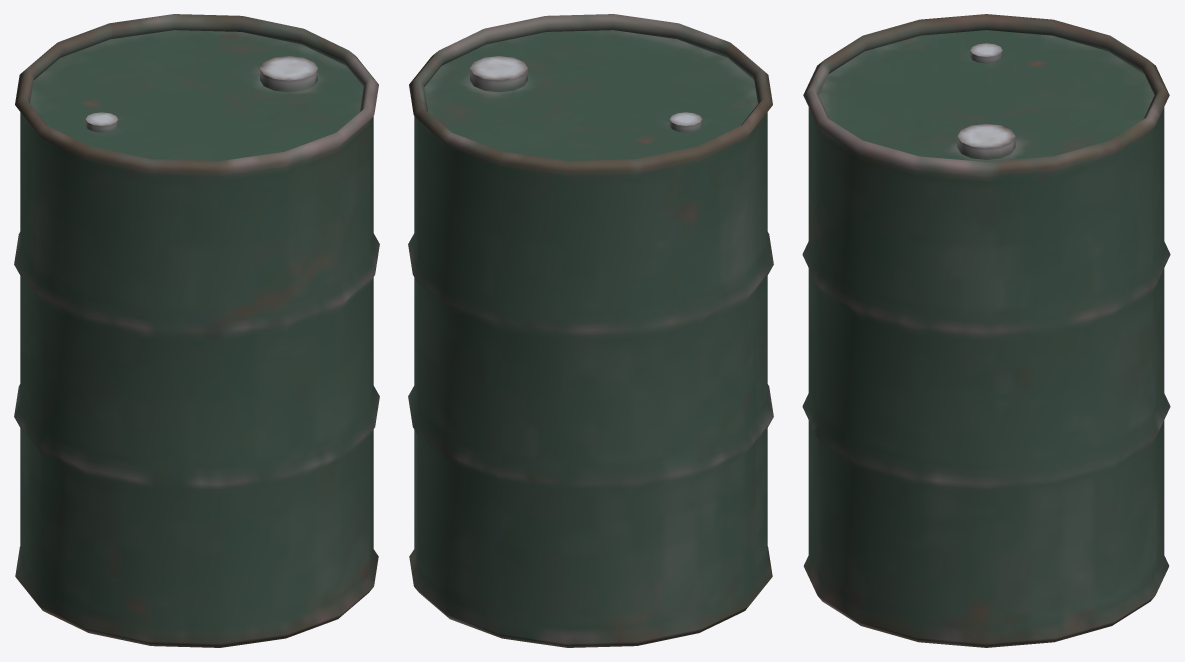
File: objects_un_base_oildrum03.gltf
3 renders of one model, left to right at view 1: azimuth 30°, elevation 25°; view 2: azimuth 150°, elevation 25°; view 3: azimuth 270°, elevation 25°, orthographic.
Parts seen in each view (by area): view 1: objects_un_base_oildrum03_body_mesh_shape:objects_un_base_oi; view 2: objects_un_base_oildrum03_body_mesh_shape:objects_un_base_oi; view 3: objects_un_base_oildrum03_body_mesh_shape:objects_un_base_oi.
Part boxes in pixels (bbox=[...]): objects_un_base_oildrum03_body_mesh_shape:objects_un_base_oi: bbox=[14, 14, 379, 647]; objects_un_base_oildrum03_body_mesh_shape:objects_un_base_oi: bbox=[408, 14, 773, 647]; objects_un_base_oildrum03_body_mesh_shape:objects_un_base_oi: bbox=[802, 14, 1170, 647].
Size of the model in its own units: 0.8893 by 1.29 by 0.8893.
Materials: 1 (1 with a texture image).
